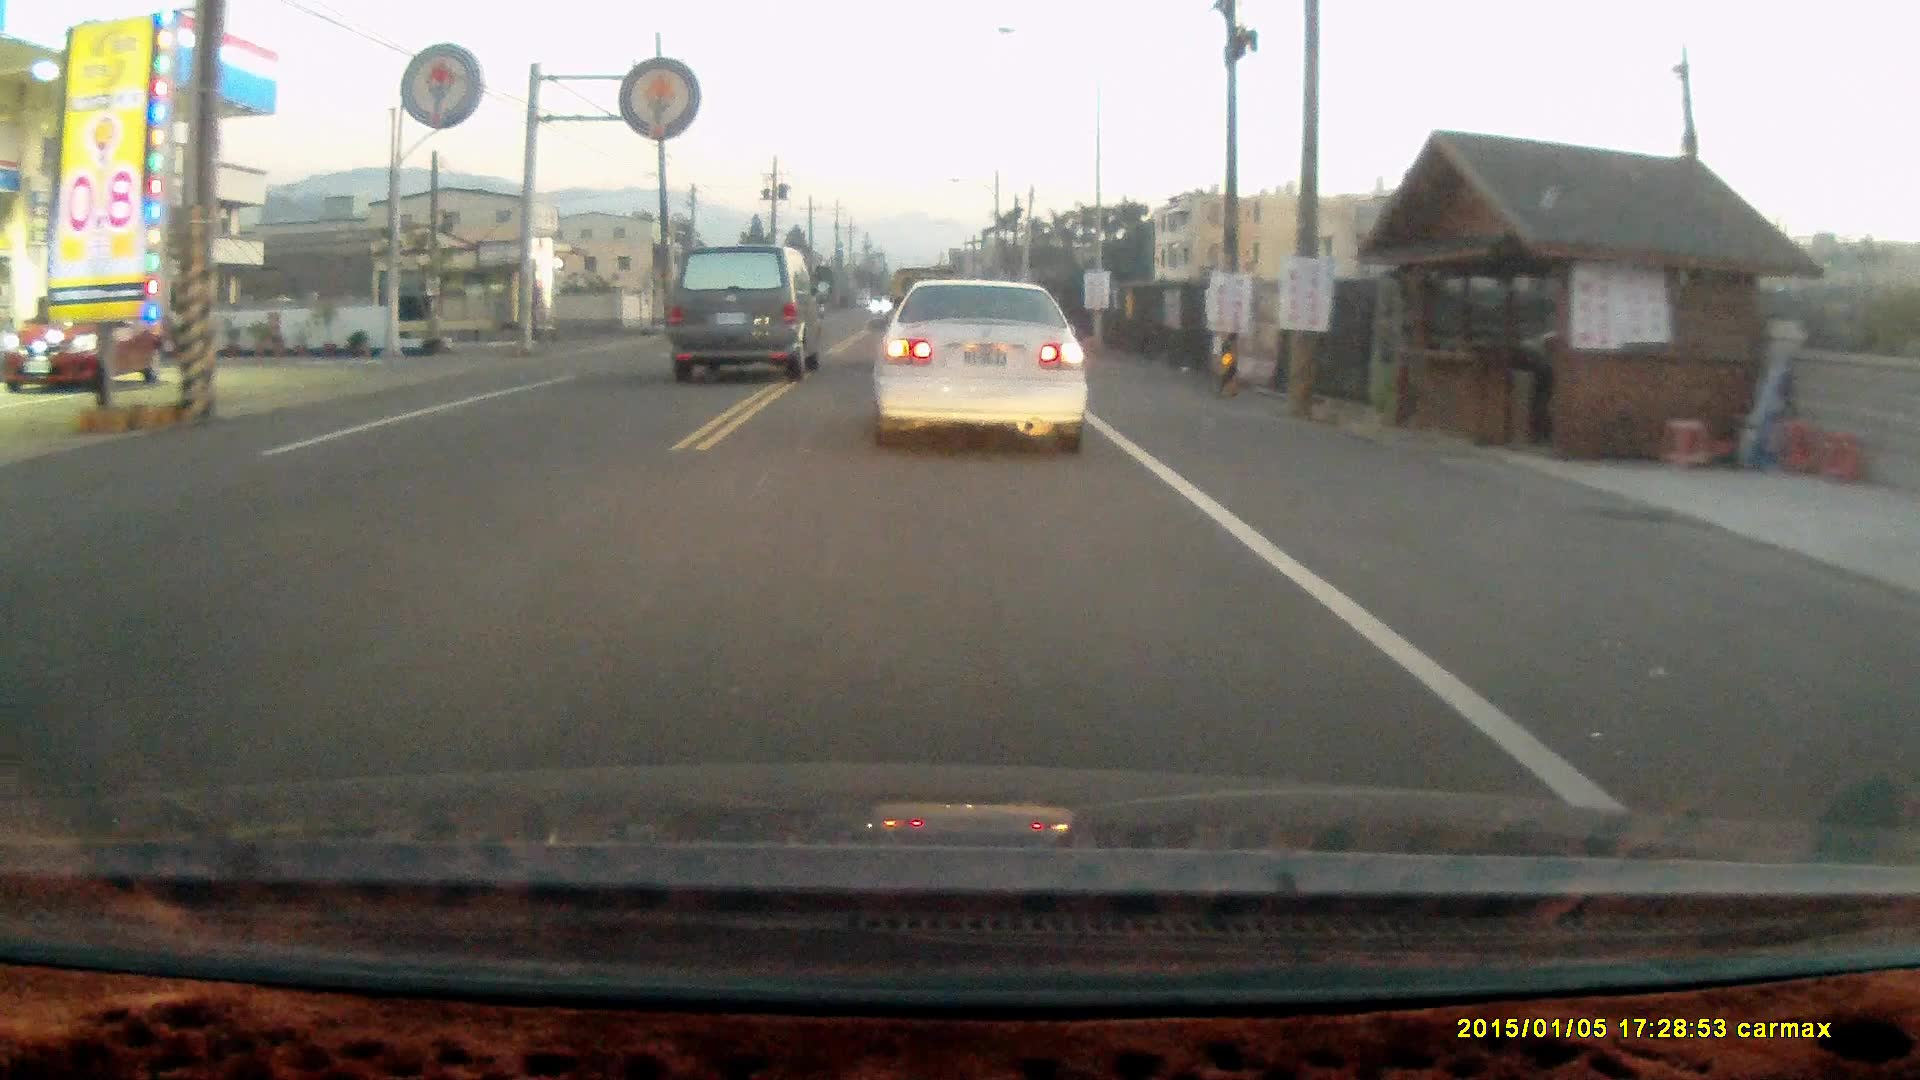vehicle: (866, 270, 1092, 458), (665, 241, 828, 380), (16, 293, 169, 396)
